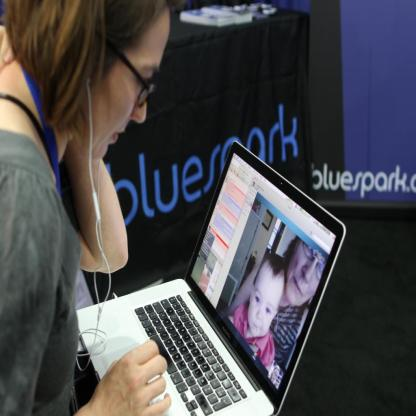board: (94, 139, 332, 416)
